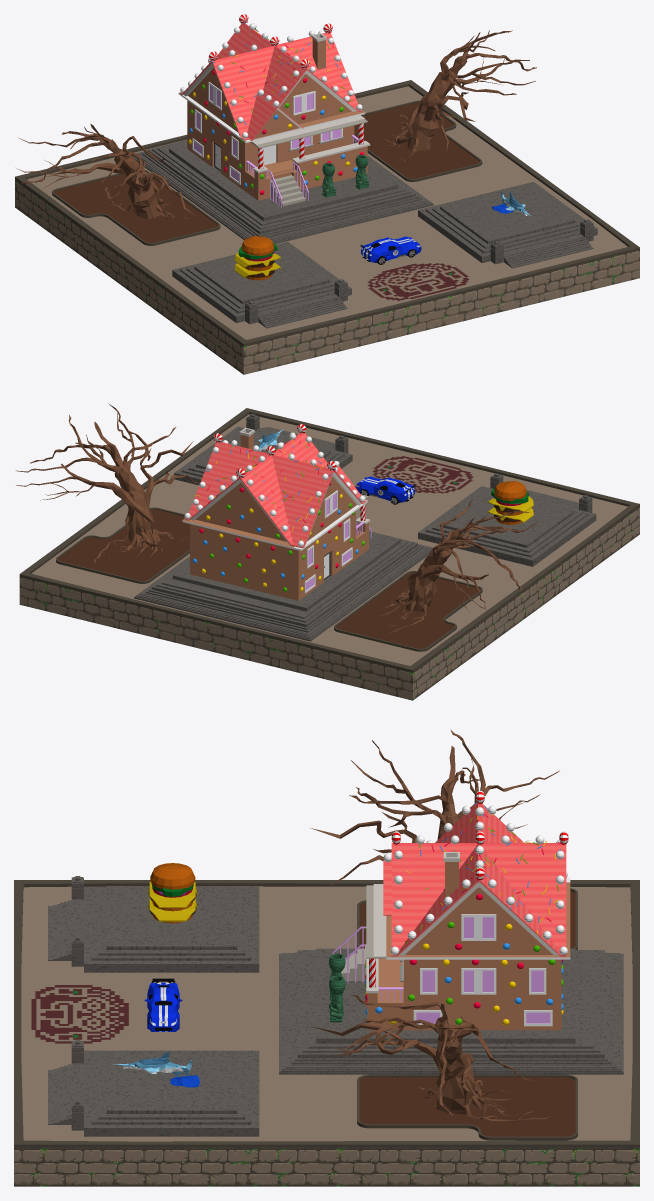
3 views of the same model, one above another, from view 1: azimuth 30°, elevation 25°; view 2: azimuth 150°, elevation 25°; view 3: azimuth 270°, elevation 25° (orthographic). The views are drawn at different scales.
Parts seen in each view (by area): view 1: Cube.011, Cube.1203, OBJRANDOM_HAMBURGER, VEHICLES_RACING_CAR; view 2: Cube.011, Cube.1203, OBJRANDOM_HAMBURGER, VEHICLES_RACING_CAR; view 3: Cube.011, Cube.1203, OBJRANDOM_HAMBURGER, VEHICLES_RACING_CAR, ANIMAL_PEZ_ESPADA.
Boxes of the visible parts, bbox=[...] form: Cube.011: bbox=[15, 30, 639, 374]; Cube.1203: bbox=[178, 14, 370, 207]; OBJRANDOM_HAMBURGER: bbox=[234, 236, 281, 280]; VEHICLES_RACING_CAR: bbox=[360, 236, 421, 264]; Cube.011: bbox=[15, 403, 639, 700]; Cube.1203: bbox=[182, 424, 371, 600]; OBJRANDOM_HAMBURGER: bbox=[487, 481, 533, 524]; VEHICLES_RACING_CAR: bbox=[355, 476, 415, 504]; Cube.011: bbox=[14, 729, 639, 1186]; Cube.1203: bbox=[332, 790, 570, 1030]; OBJRANDOM_HAMBURGER: bbox=[148, 863, 197, 923]; VEHICLES_RACING_CAR: bbox=[144, 978, 182, 1031]; ANIMAL_PEZ_ESPADA: bbox=[112, 1052, 199, 1087].
Bounding box in the file's own units: 5099 × 1684 × 4000.
46 materials, 7 textured.
